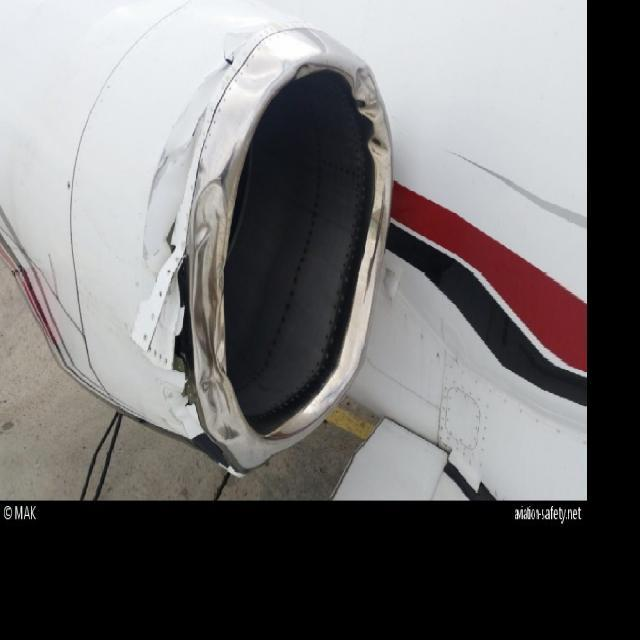dent: (195, 182, 245, 439), (359, 69, 389, 161), (233, 64, 285, 92), (371, 208, 389, 258)
